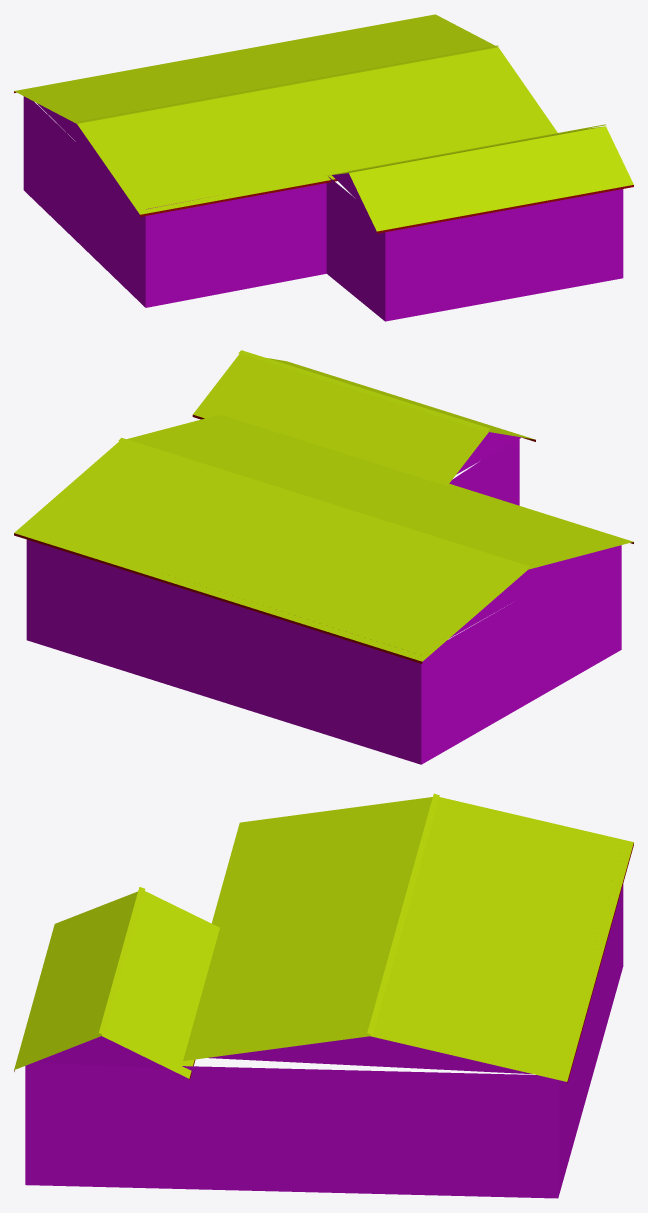
Rendered from lct_4.glb.
3 renders of one model, top to bottom at view 1: azimuth 30°, elevation 25°; view 2: azimuth 150°, elevation 25°; view 3: azimuth 270°, elevation 25°, orthographic. The views are drawn at different scales.
Parts seen in each view (by area): view 1: lct_4; view 2: lct_4; view 3: lct_4.
Part boxes in pixels (left/top/right/bottom): lct_4: left=14, top=14, right=633, bottom=321; lct_4: left=14, top=350, right=633, bottom=764; lct_4: left=14, top=793, right=633, bottom=1198.
Size of the model in its own units: 24.4 by 7.01 by 24.64.
